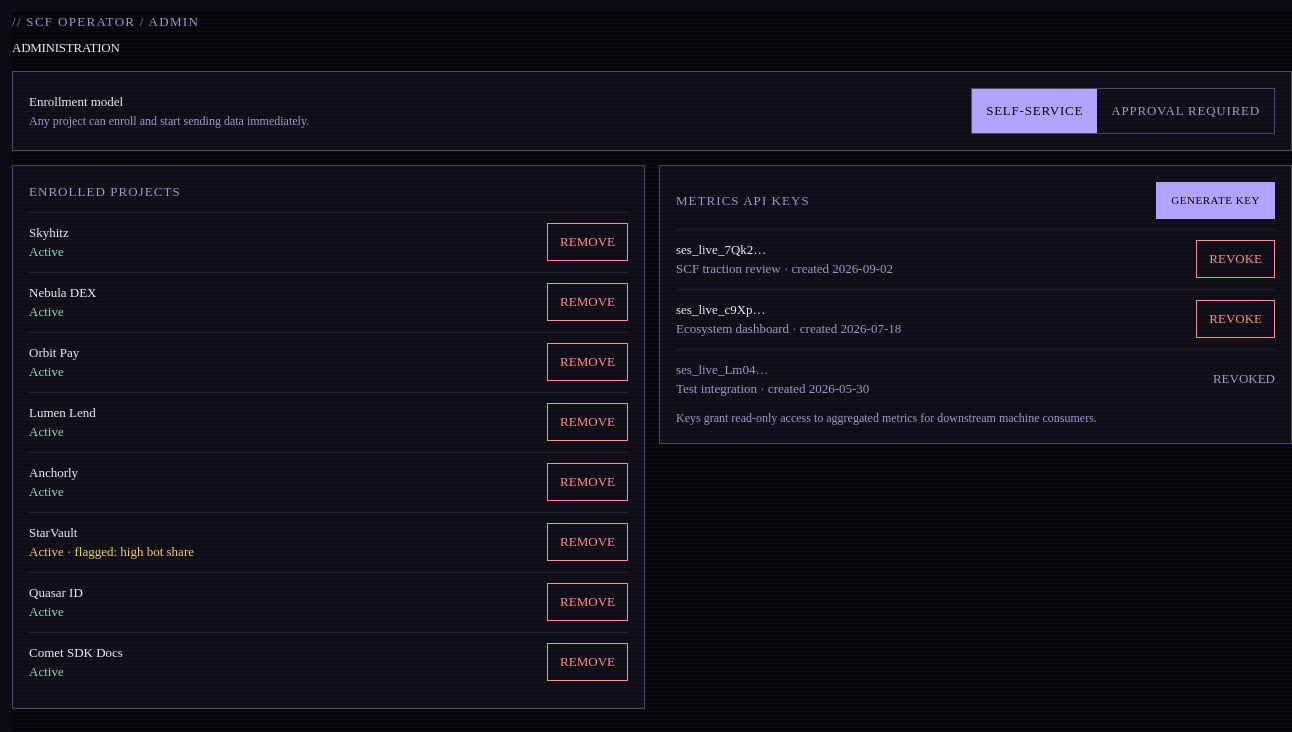
Test: AdminScreen › revokes a key
Expected: the text "Revoked" is shown once, [1213,369,1275,389]
Click the button with aria-label "Revoke key ses_live_7Qk2".
click(1236, 259)  # box [1196,240,1275,278]
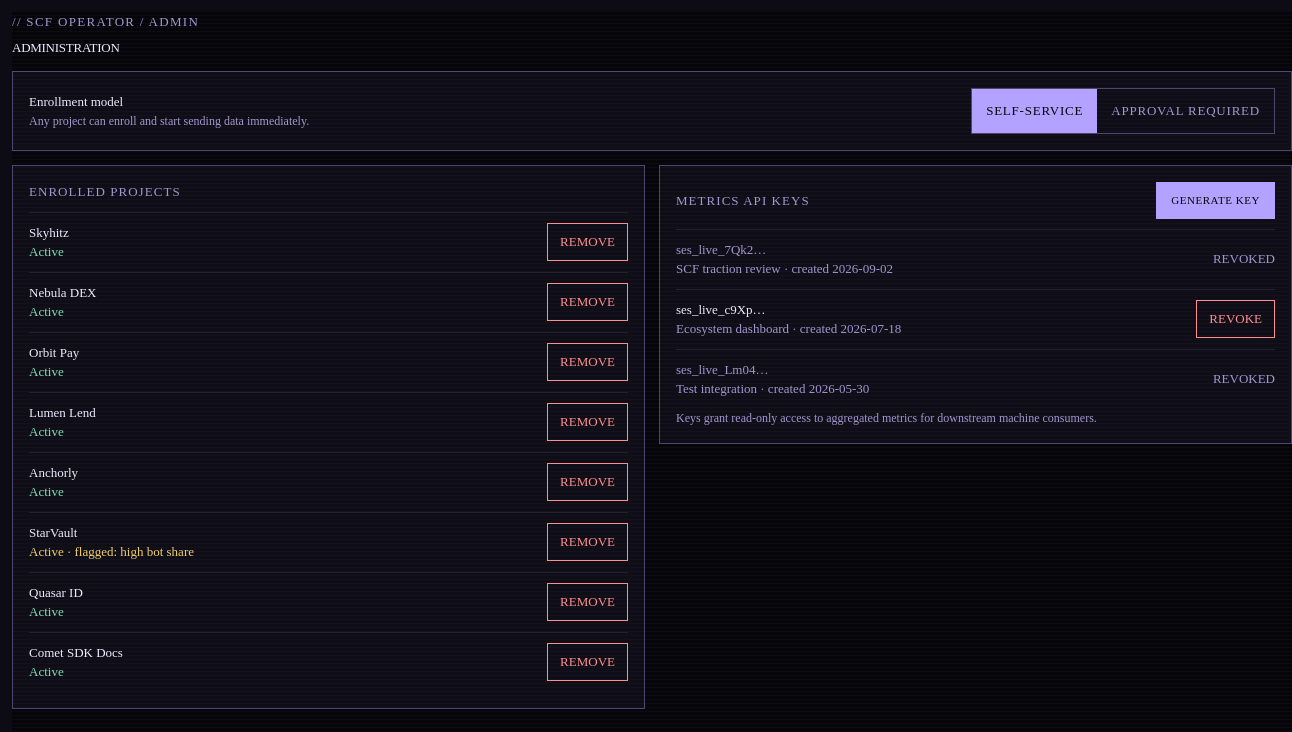
Now the text "Revoked" is shown 2 times, box [1213,249,1275,269]; [1213,369,1275,389]
